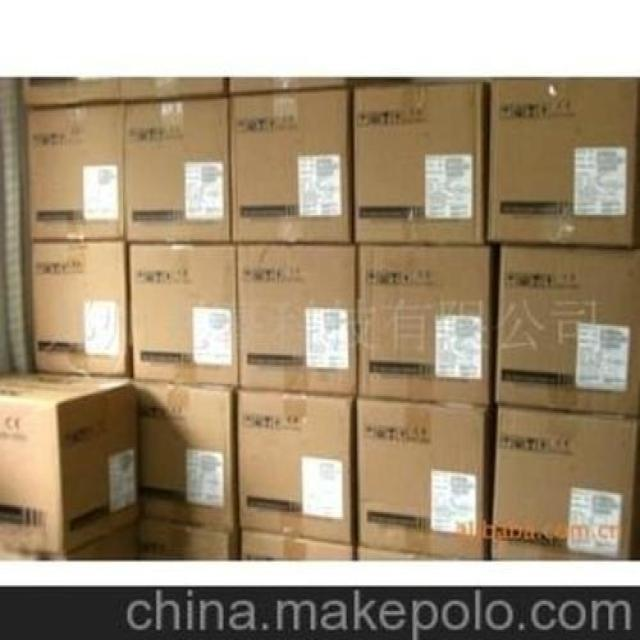box: (0, 371, 141, 555), (488, 77, 638, 244), (494, 245, 639, 416), (492, 405, 639, 563), (356, 399, 492, 562), (354, 83, 490, 243), (357, 245, 492, 405), (230, 89, 355, 243), (237, 245, 357, 394), (239, 391, 353, 544), (128, 242, 238, 388), (131, 382, 237, 529), (124, 99, 231, 242), (25, 243, 132, 377), (24, 105, 126, 242), (131, 518, 240, 562), (238, 530, 356, 561), (22, 77, 121, 106), (120, 77, 227, 98), (228, 78, 350, 95)
